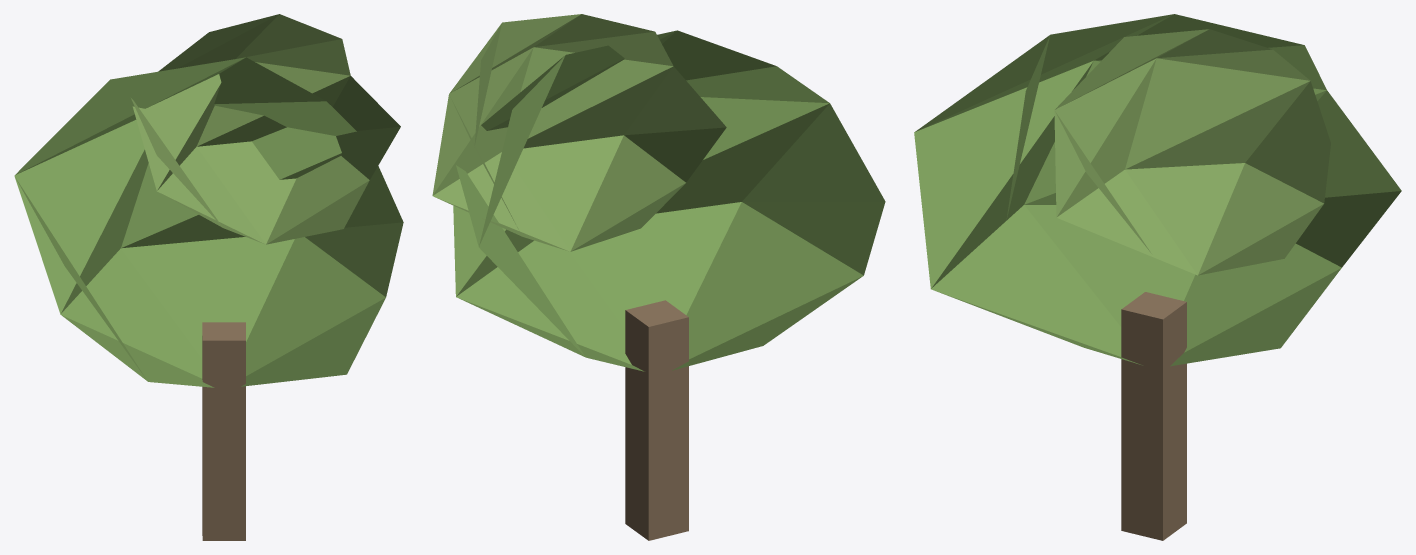
The model's file is oak_2.glb.
The picture shows the model from 3 angles, left to right: view 1: azimuth 30°, elevation 25°; view 2: azimuth 150°, elevation 25°; view 3: azimuth 270°, elevation 25°; orthographic projection. The views are drawn at different scales.
Size of the model in its own units: 5.19 by 6.6 by 5.59.
